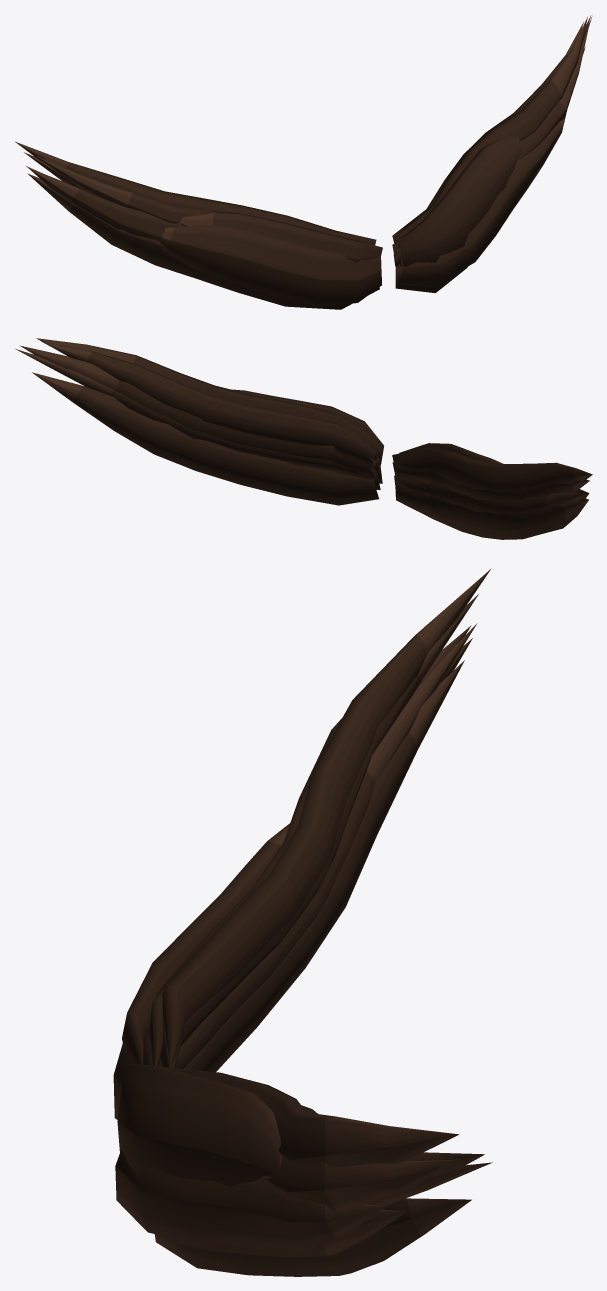
Rendered from vincentt-mustache-imperial.glb.
3 renders of one model, top to bottom at view 1: azimuth 30°, elevation 25°; view 2: azimuth 150°, elevation 25°; view 3: azimuth 270°, elevation 25°, orthographic. The views are drawn at different scales.
Parts seen in each view (by area): view 1: mustache_imperial_clumps; view 2: mustache_imperial_clumps; view 3: mustache_imperial_clumps.
Boxes of the visible parts, left/top/right/bottom form: mustache_imperial_clumps: left=15, top=15, right=592, bottom=309; mustache_imperial_clumps: left=15, top=338, right=592, bottom=539; mustache_imperial_clumps: left=113, top=568, right=492, bottom=1276.
Size of what is drawn, in the model's own units: 0.1061 by 0.0303 by 0.0302.
Materials: 2 (2 with a texture image).
